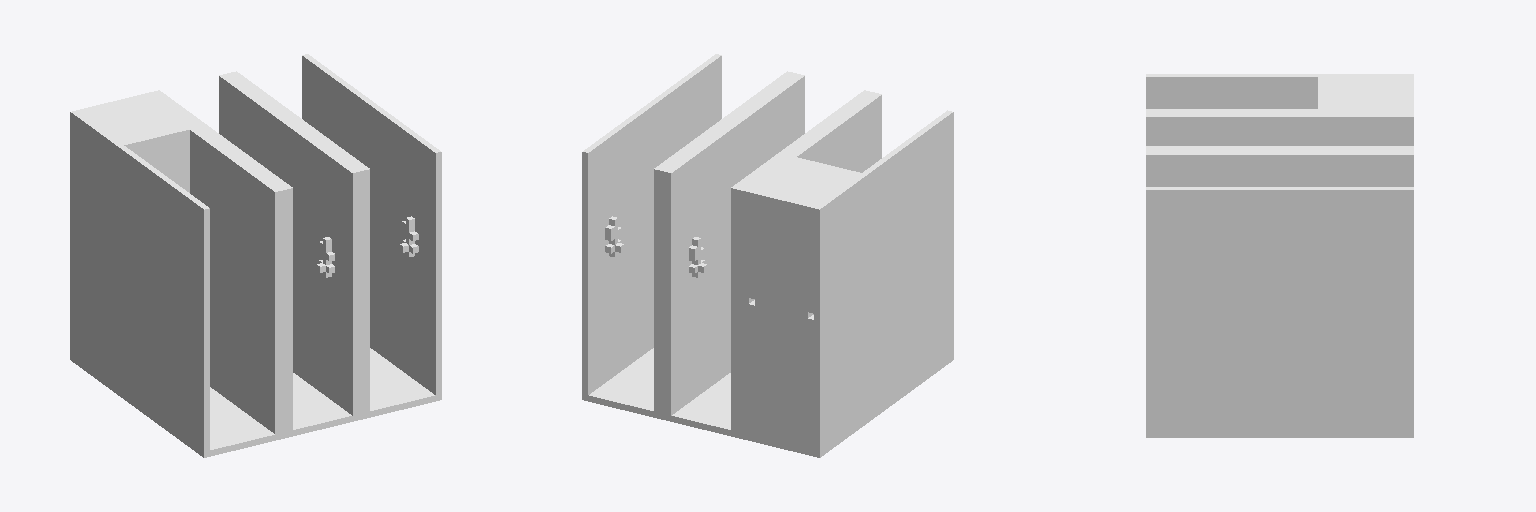
Rendered from SalaFechadaa3.obj.
3 views of the same model, side by side, from view 1: azimuth 30°, elevation 25°; view 2: azimuth 150°, elevation 25°; view 3: azimuth 270°, elevation 25° (orthographic).
Parts seen in each view (by area): view 1: SalaFechadaa3; view 2: SalaFechadaa3; view 3: SalaFechadaa3.
Part boxes in pixels (x1,y1,x2,y2): SalaFechadaa3: (70,54,441,457); SalaFechadaa3: (582,54,953,457); SalaFechadaa3: (1146,74,1413,437).
Size of the model in its own units: 40 by 40 by 39.